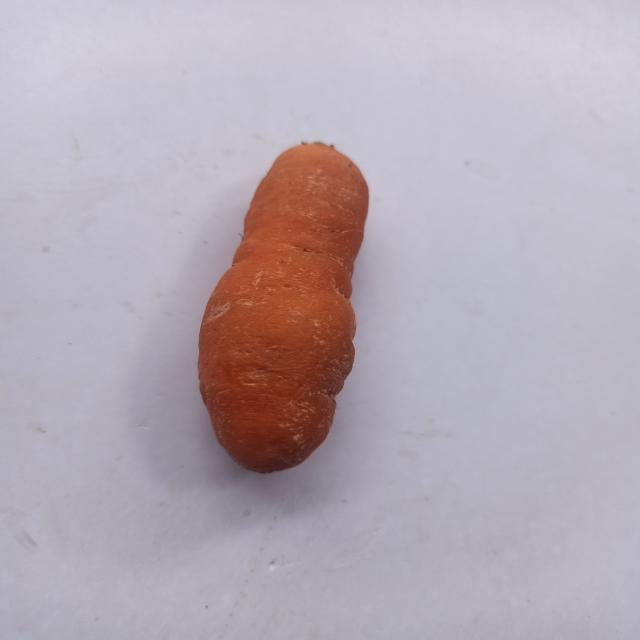Carrot: (184, 118, 379, 482)
